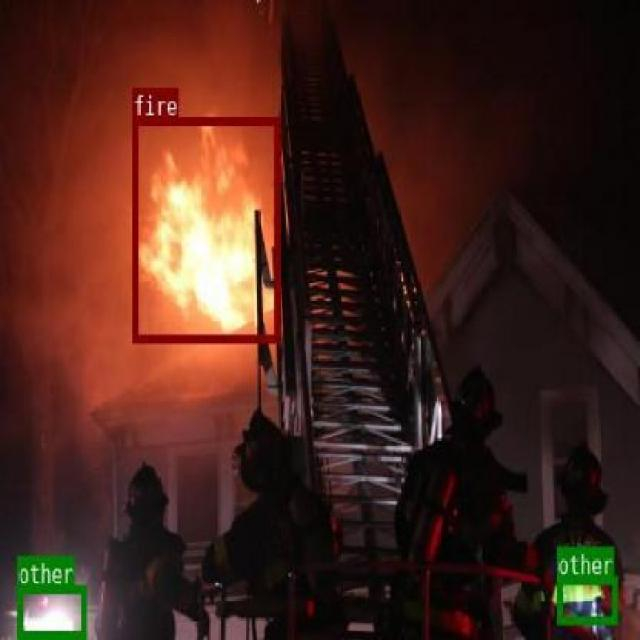Fire: (132, 115, 278, 340)
